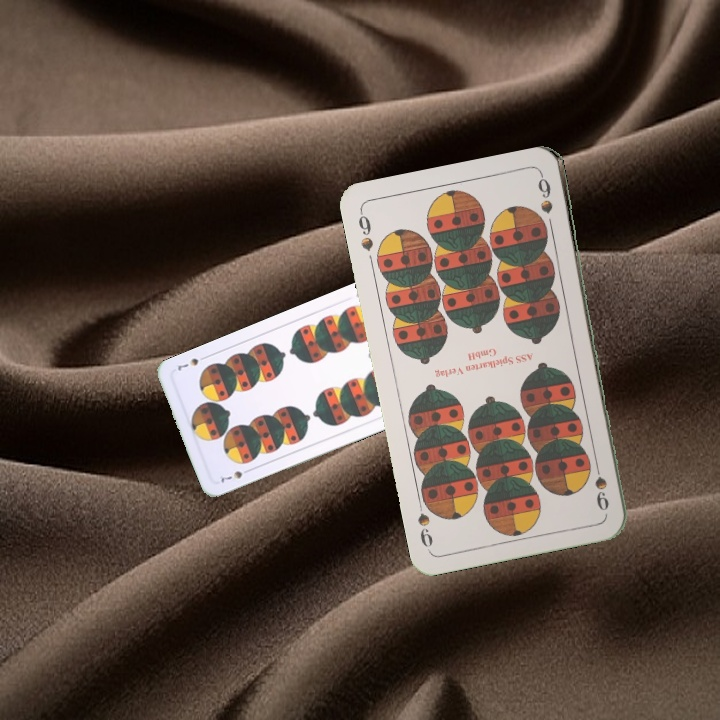S7: (216, 465, 254, 485)
S9: (590, 456, 612, 514), (354, 207, 376, 254)
